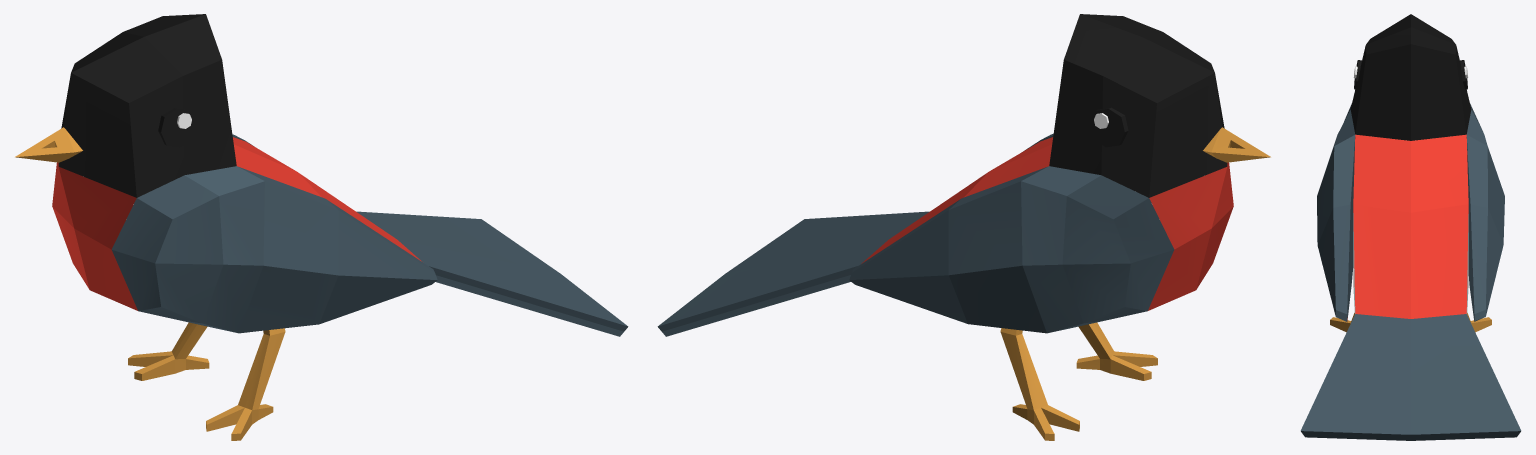
The model's file is robin.glb.
3 renders of one model, left to right at view 1: azimuth 30°, elevation 25°; view 2: azimuth 150°, elevation 25°; view 3: azimuth 270°, elevation 25°, orthographic. The views are drawn at different scales.
Visible parts, largest first — view 1: bird_01_Cube.011; view 2: bird_01_Cube.011; view 3: bird_01_Cube.011.
Part boxes in pixels (x1=…): bird_01_Cube.011: x1=15, y1=14, x2=628, y2=440; bird_01_Cube.011: x1=657, y1=14, x2=1270, y2=440; bird_01_Cube.011: x1=1300, y1=14, x2=1521, y2=440.
Bounding box in the file's own units: 296 × 198 × 138.
